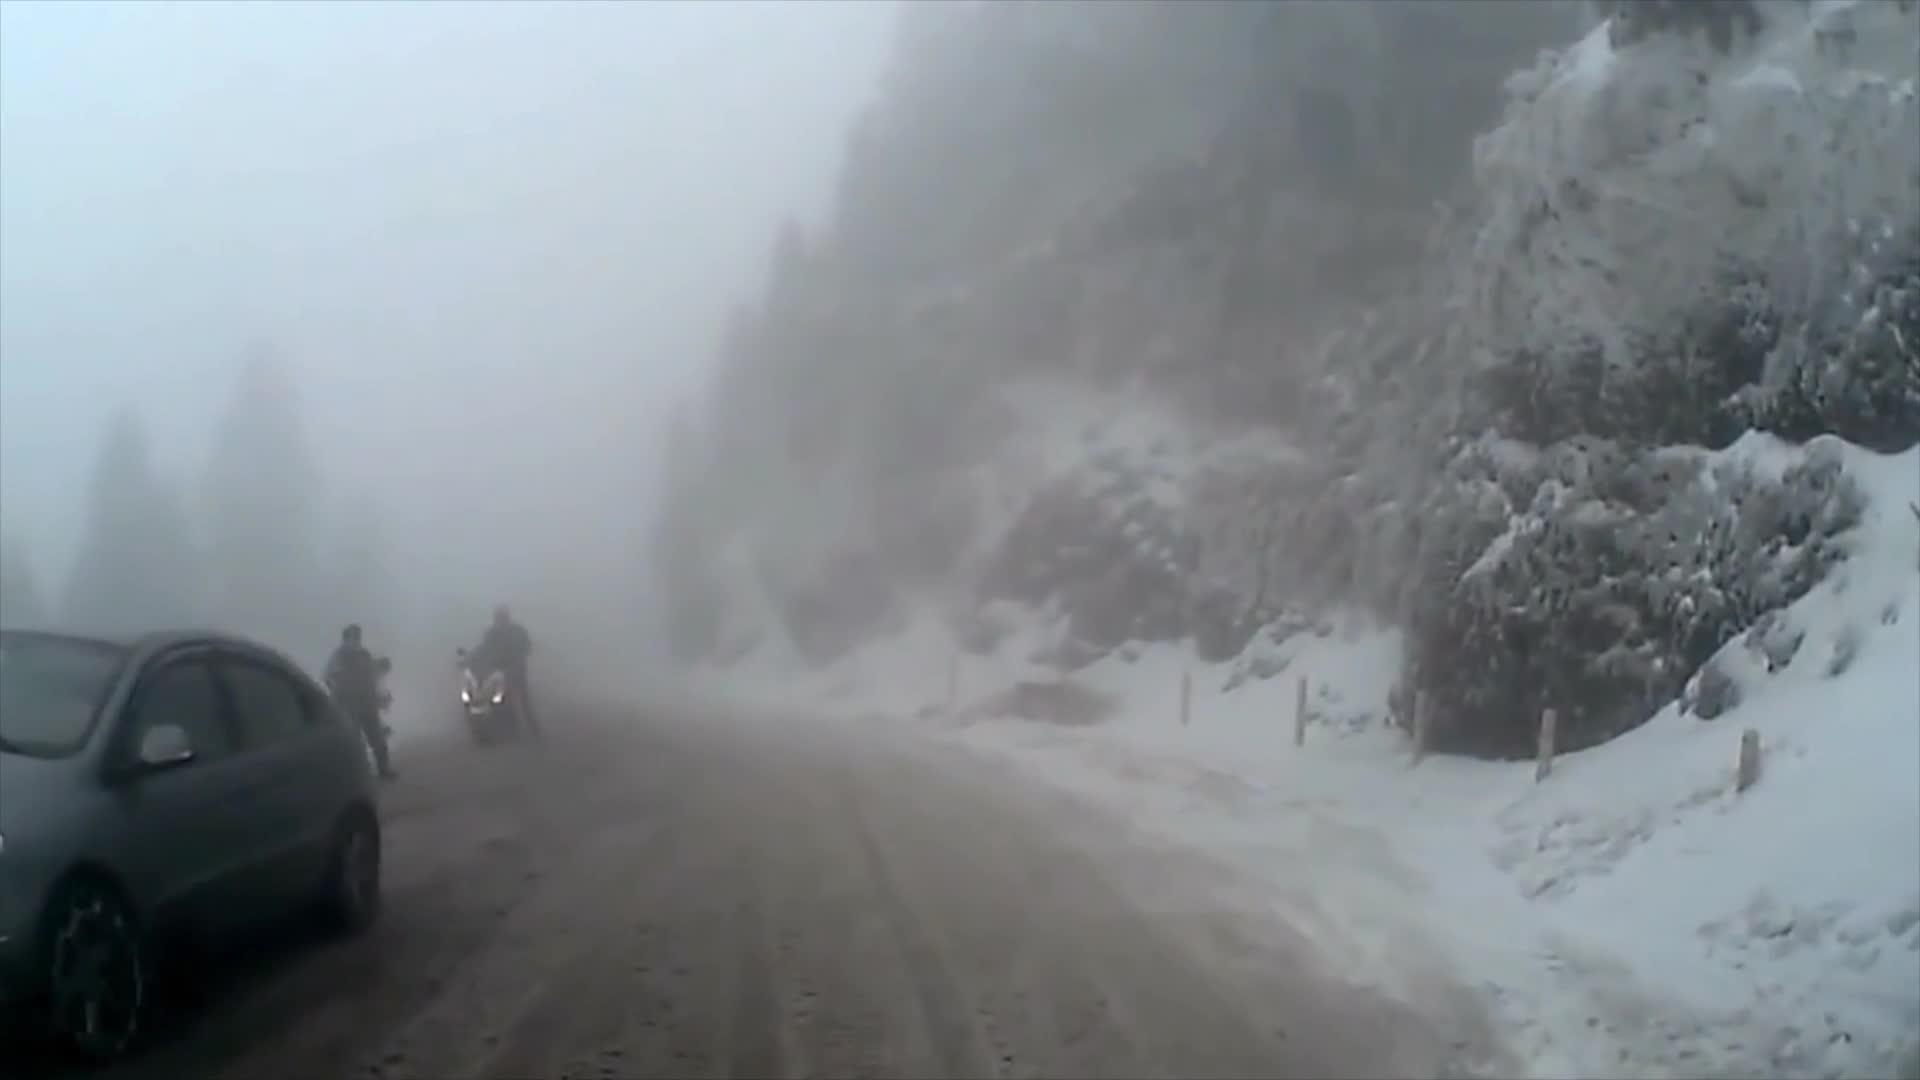pedestrian: (325, 629, 390, 798), (467, 603, 541, 740)
vehicle: (0, 623, 384, 1065)
